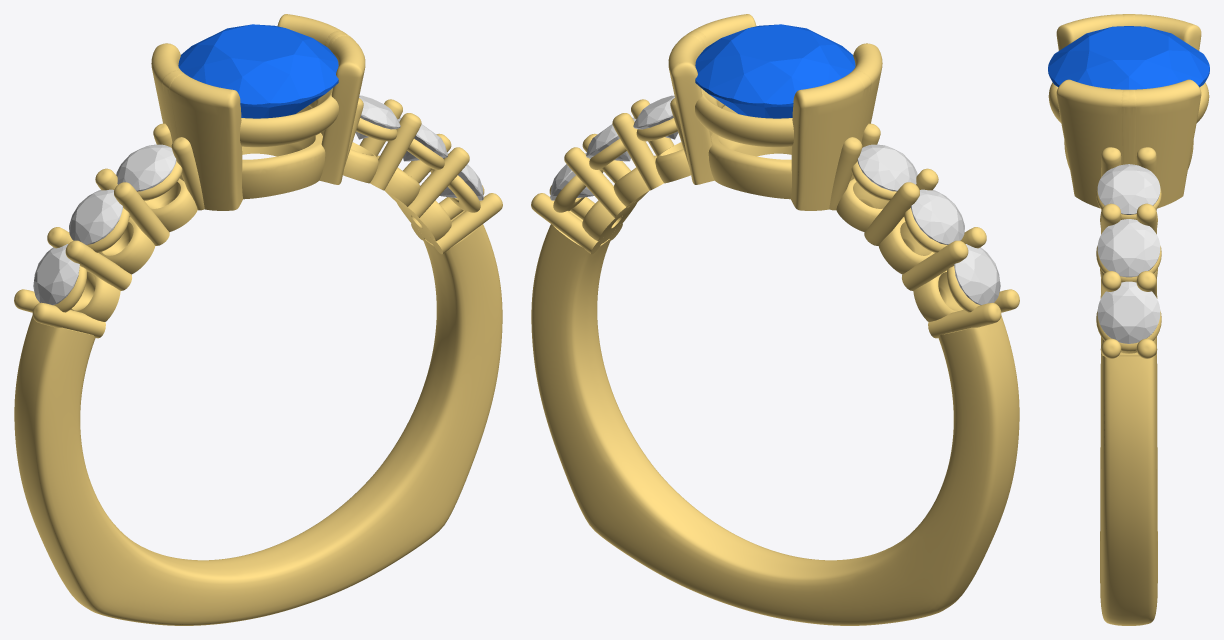
File: bluesapphire-round-yellowgold-halfmoonbezel-europeanshank-3stone.glb
3 renders of one model, left to right at view 1: azimuth 30°, elevation 25°; view 2: azimuth 150°, elevation 25°; view 3: azimuth 270°, elevation 25°, orthographic. The views are drawn at different scales.
Parts seen in each view (by area): view 1: metal, stone, side.002, side.003, side.001, side.004, side.005; view 2: metal, stone, side.002, side.003, side.001, side.004, side.005; view 3: metal, stone, side, side.005, side.004.
Boxes of the visible parts, x1=… form: metal: x1=14, y1=14, x2=502, y2=625; stone: x1=178, y1=24, x2=338, y2=118; side.002: x1=69, y1=189, x2=122, y2=244; side.003: x1=116, y1=144, x2=176, y2=191; side.001: x1=33, y1=244, x2=79, y2=305; side.004: x1=355, y1=95, x2=400, y2=139; side.005: x1=398, y1=117, x2=447, y2=161; metal: x1=531, y1=14, x2=1019, y2=625; stone: x1=695, y1=24, x2=855, y2=118; side.002: x1=911, y1=189, x2=964, y2=244; side.003: x1=857, y1=144, x2=917, y2=191; side.001: x1=954, y1=244, x2=1000, y2=305; side.004: x1=633, y1=95, x2=678, y2=139; side.005: x1=586, y1=117, x2=636, y2=161; metal: x1=1048, y1=14, x2=1209, y2=625; stone: x1=1048, y1=26, x2=1209, y2=89; side: x1=1097, y1=281, x2=1160, y2=343; side.005: x1=1097, y1=219, x2=1160, y2=277; side.004: x1=1097, y1=164, x2=1160, y2=214.
Bounding box in the file's own units: 20.71 × 23.81 × 6.44.
